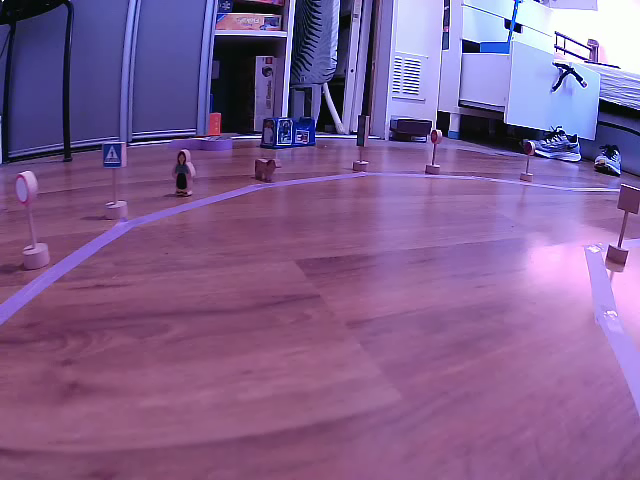mens: (172, 148, 194, 194)
paard: (254, 156, 280, 184)
wegdicht: (15, 171, 40, 205)
zebrapad: (101, 141, 126, 171)
